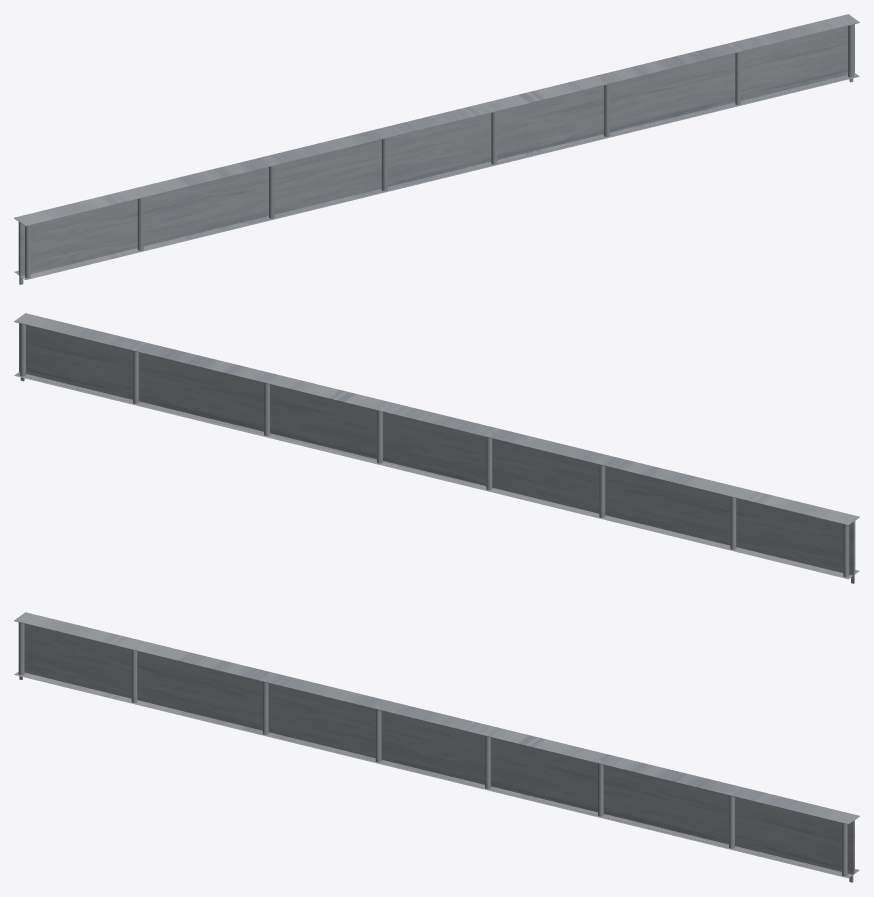
File: viga_metal.glb
The picture shows the model from 3 angles, top to bottom: view 1: azimuth 30°, elevation 25°; view 2: azimuth 150°, elevation 25°; view 3: azimuth 330°, elevation 25°; orthographic projection.
Visible parts, largest first — view 1: a_viga2export; view 2: a_viga2export; view 3: a_viga2export.
Part boxes in pixels (box(x1,y1,x2,y2)): a_viga2export: box(14, 14, 859, 284); a_viga2export: box(14, 313, 859, 583); a_viga2export: box(14, 612, 859, 882).
Size of the model in its own units: 27.2 by 1.95 by 0.6467.
1 material, 1 textured.
